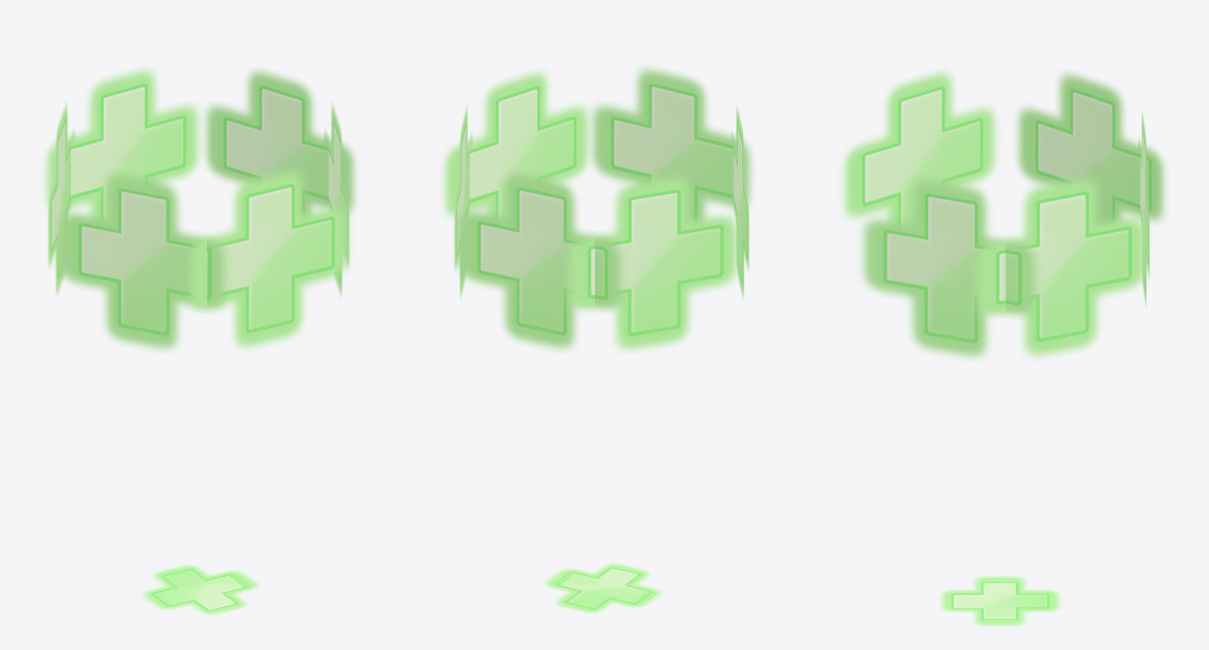
File: powerup_health.glb
The picture shows the model from 3 angles, left to right: view 1: azimuth 30°, elevation 25°; view 2: azimuth 150°, elevation 25°; view 3: azimuth 270°, elevation 25°; orthographic projection. The views are drawn at different scales.
Visible parts, largest first — view 1: health6, health1, health4, health3, health_floor, health5, health2; view 2: health5, health4, health1, health2, health_floor, health6, health3; view 3: health2, health3, health6, health5, health_floor, health4.
Boxes of the visible parts, box(x1,y1,x2,y2) form: health6: box(56, 171, 228, 351); health1: box(187, 168, 350, 350); health4: box(43, 67, 201, 221); health3: box(203, 68, 356, 217); health_floor: box(141, 564, 259, 614); health5: box(48, 102, 75, 296); health2: box(324, 103, 349, 296); health5: box(564, 173, 740, 352); health4: box(455, 170, 624, 351); health1: box(590, 66, 753, 223); health2: box(442, 70, 590, 220); health_floor: box(544, 563, 662, 613); health6: box(731, 106, 749, 299); health3: box(454, 106, 472, 299); health2: box(860, 176, 1038, 359); health3: box(973, 175, 1148, 358); health6: box(841, 70, 997, 227); health5: box(1015, 71, 1166, 226); health_floor: box(939, 575, 1061, 626); health4: box(1138, 110, 1149, 305).
Size of the model in its own units: 0.2659 by 0.3934 by 0.2695.
1 material, 1 textured.
